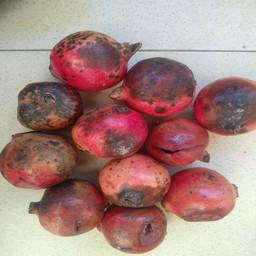Bad_pomegranate: (48, 28, 130, 89), (0, 131, 76, 192), (196, 75, 256, 141), (170, 167, 239, 223), (126, 58, 193, 115), (33, 182, 104, 232), (73, 106, 141, 158), (99, 157, 169, 207), (101, 206, 164, 252), (20, 82, 77, 128), (152, 123, 212, 166)
